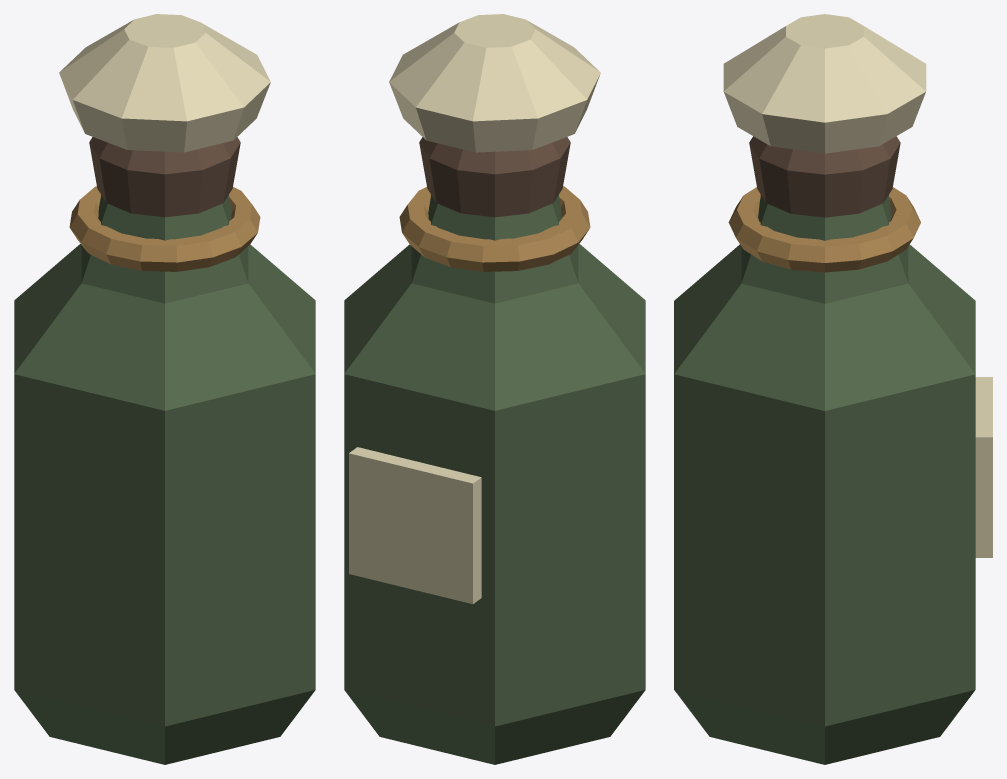
The model's file is AE_Item_SporeMercy.fbx.
3 views of the same model, side by side, from view 1: azimuth 30°, elevation 25°; view 2: azimuth 150°, elevation 25°; view 3: azimuth 270°, elevation 25° (orthographic).
Parts seen in each view (by area): view 1: AE_Item_SporeMercy; view 2: AE_Item_SporeMercy; view 3: AE_Item_SporeMercy.
Boxes of the visible parts, x1,y1,x2,y2 form: AE_Item_SporeMercy: (14, 14, 315, 764); AE_Item_SporeMercy: (344, 14, 645, 764); AE_Item_SporeMercy: (674, 14, 992, 764).
Size of the model in its own units: 0.17 by 0.365 by 0.1556.
